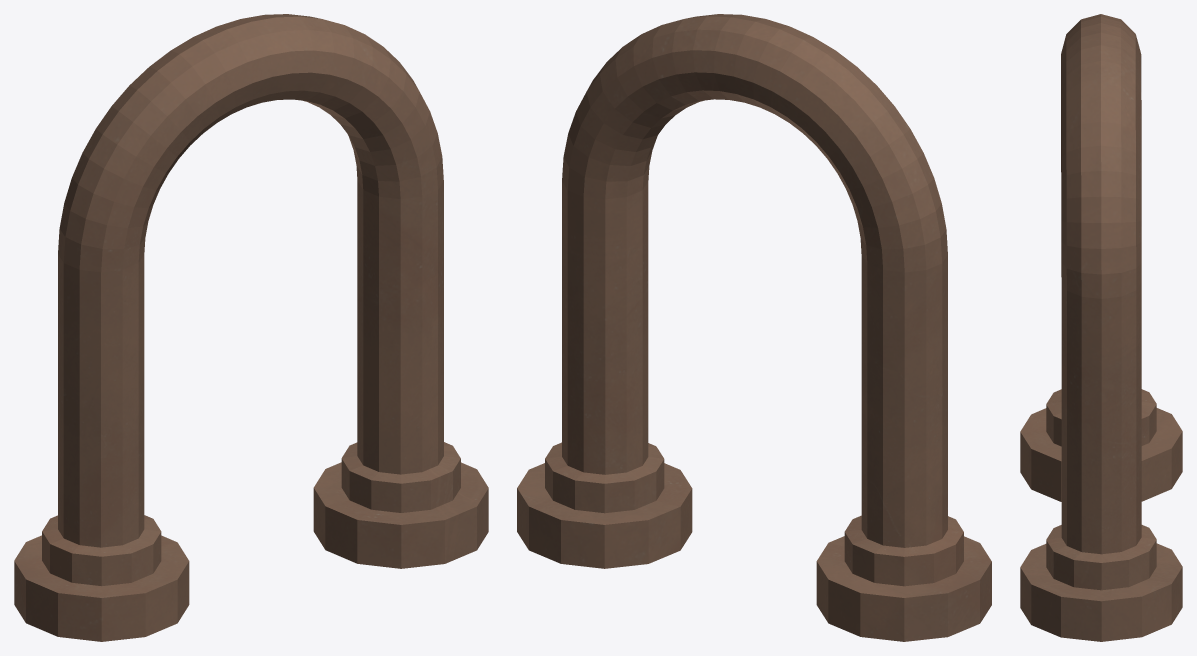
File: terracotta-arch.fbx
3 renders of one model, left to right at view 1: azimuth 30°, elevation 25°; view 2: azimuth 150°, elevation 25°; view 3: azimuth 270°, elevation 25°, orthographic. The views are drawn at different scales.
Visible parts, largest first — view 1: Torus; view 2: Torus; view 3: Torus.
Part boxes in pixels (<box>): Torus: <box>14,14,488,641</box>; Torus: <box>517,14,991,641</box>; Torus: <box>1020,14,1182,641</box>.
Bounding box in the file's own units: 4091 × 4741 × 1375.
